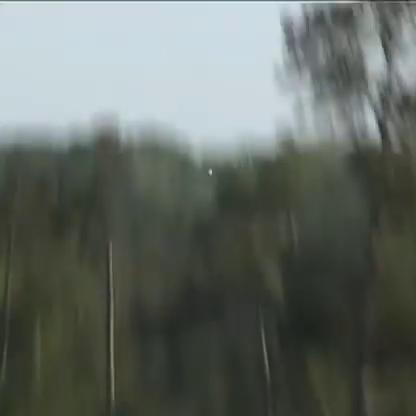golfball: (205, 162, 210, 172)
